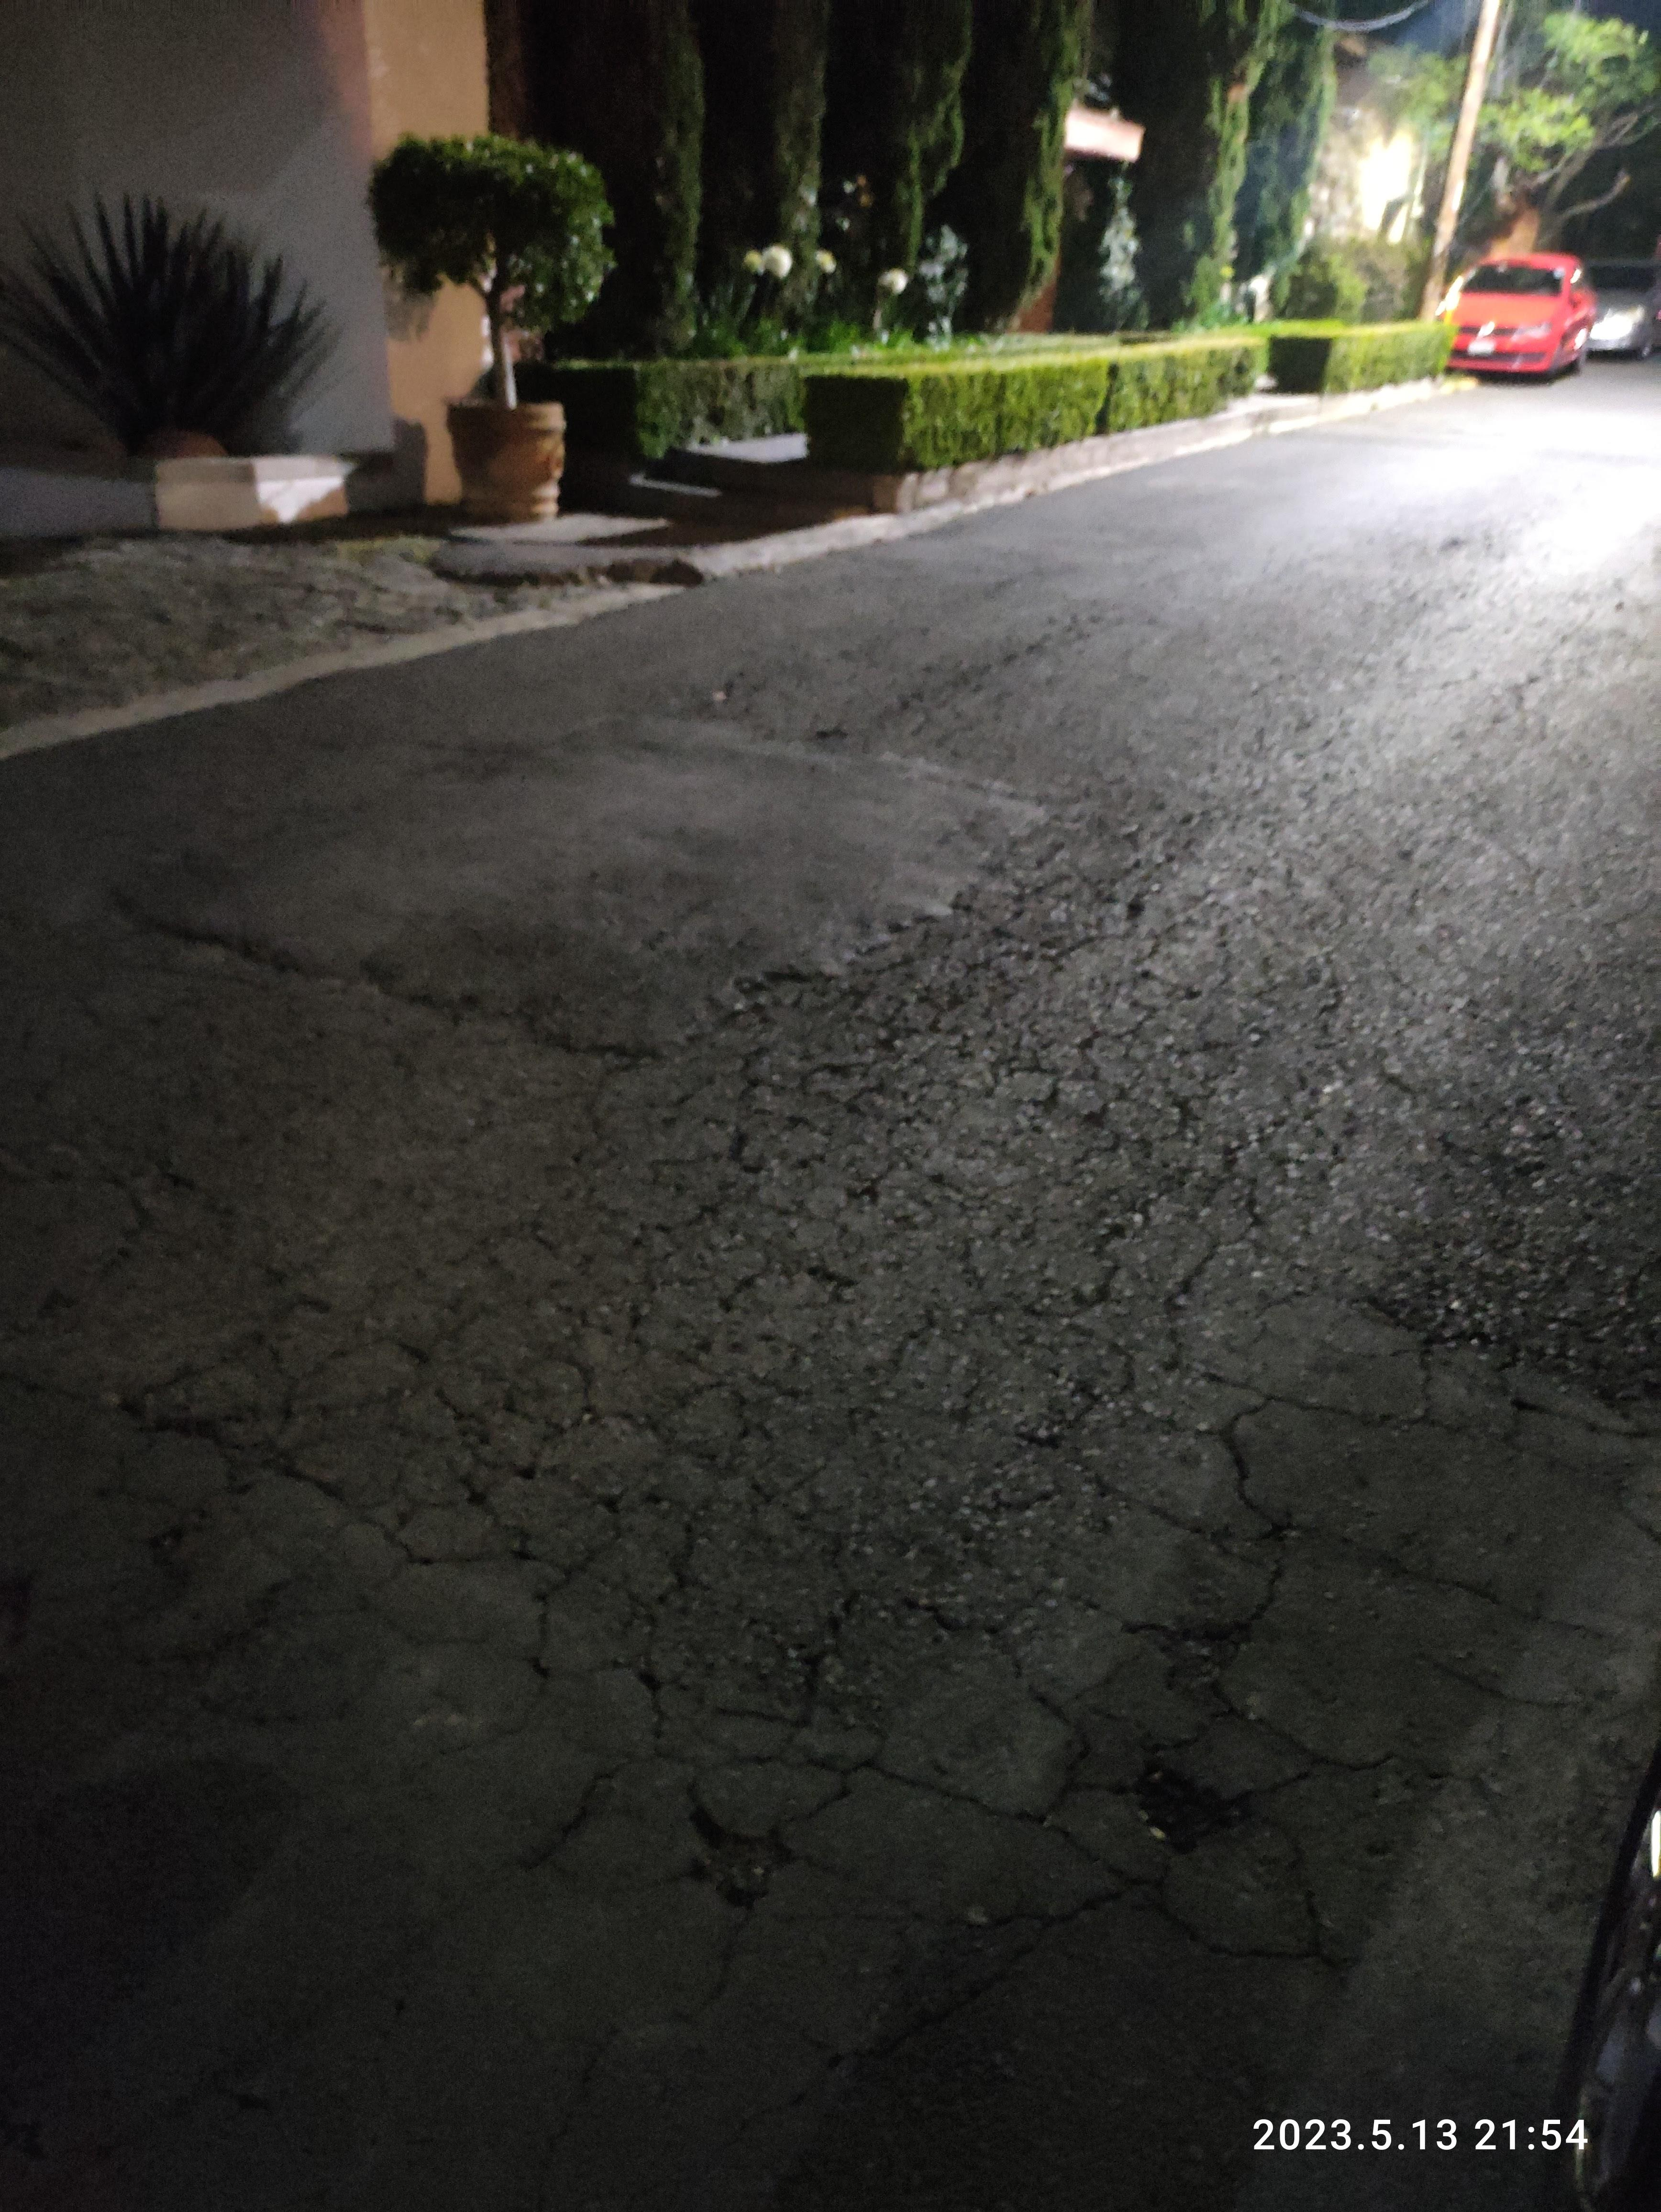alligator-crack: (106, 839, 1661, 1928)
